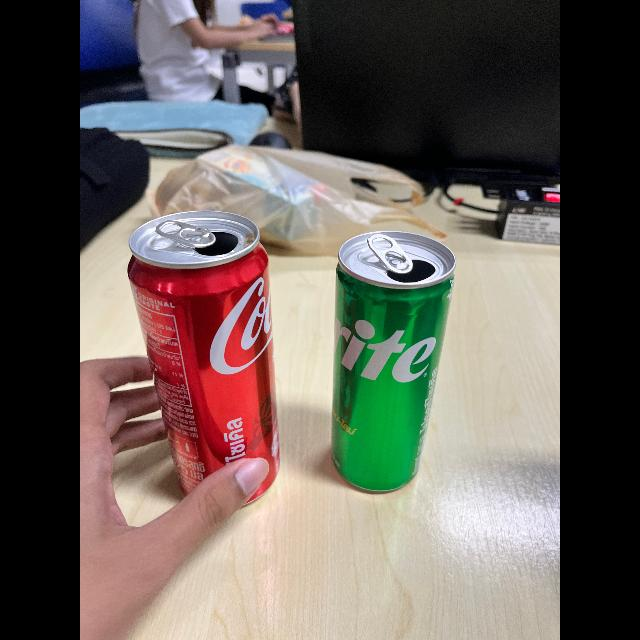can: (120, 212, 294, 508), (312, 226, 468, 497)
